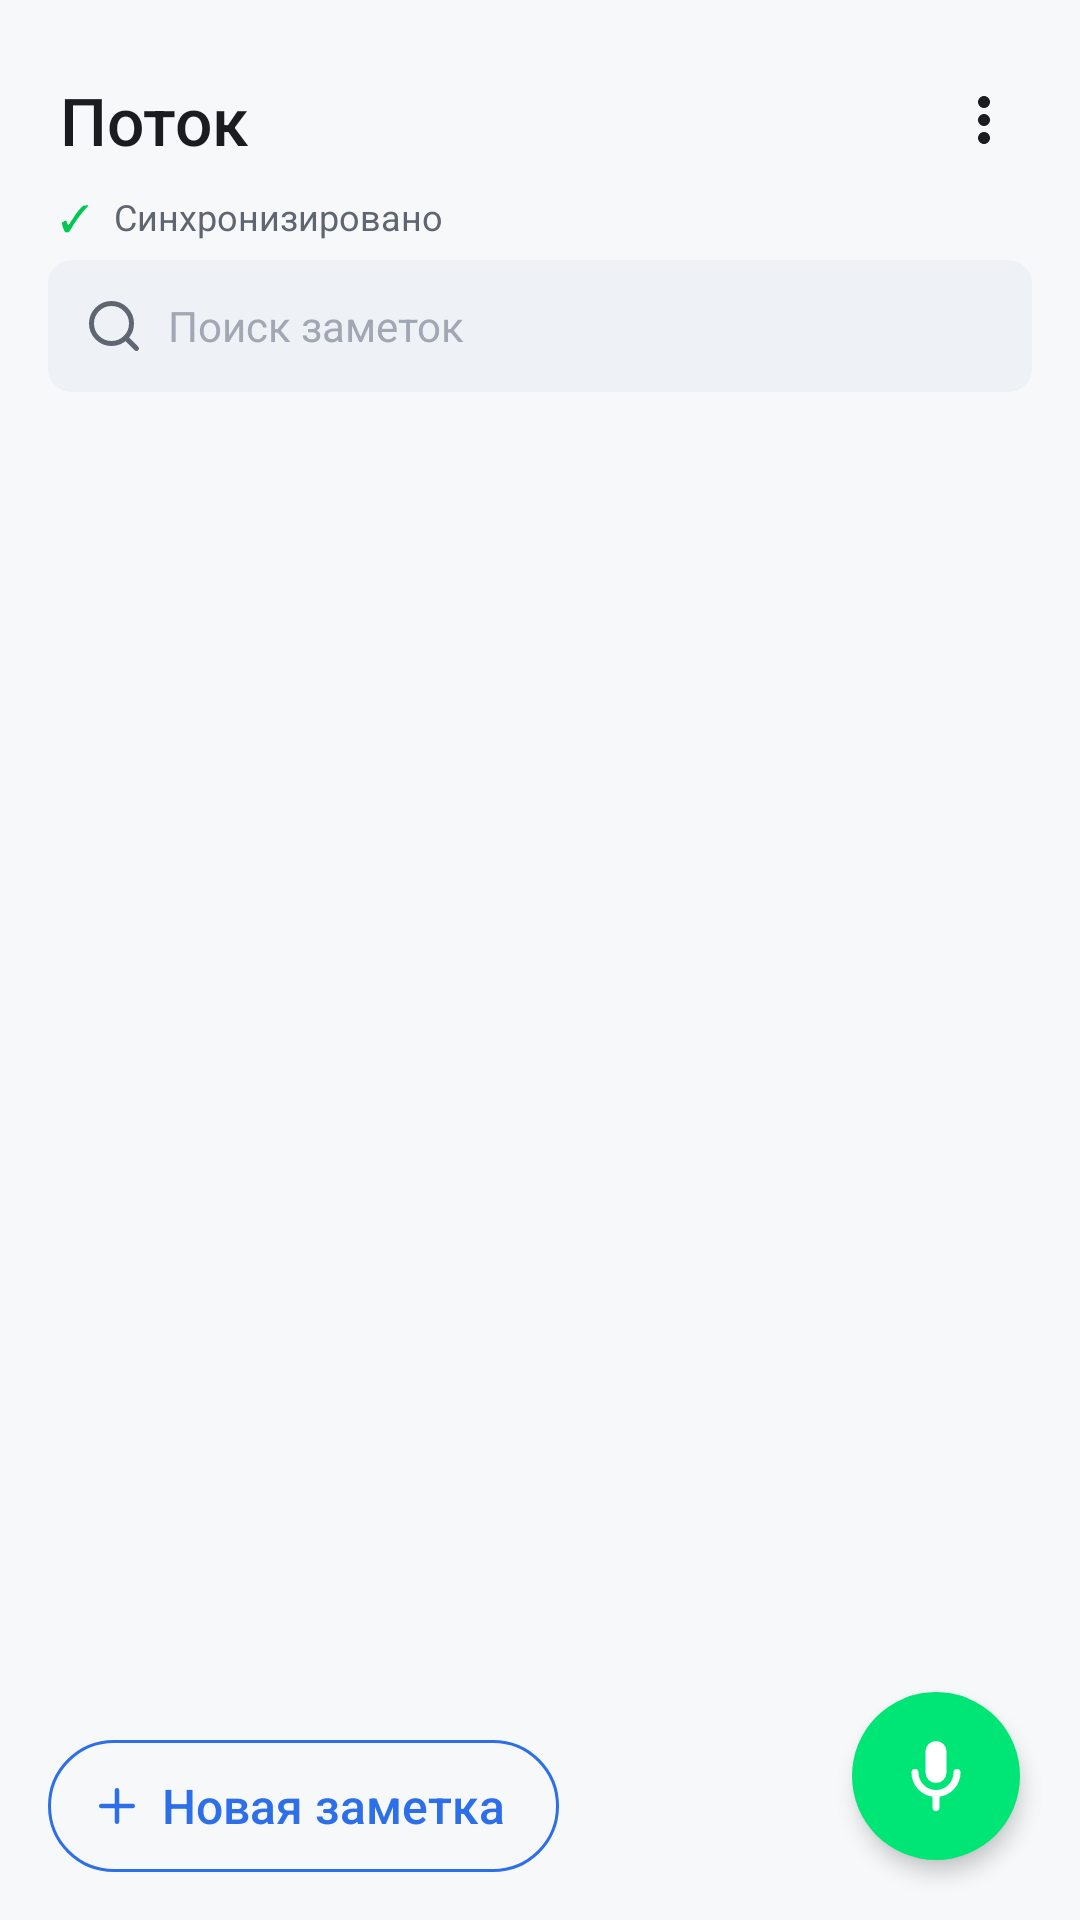

Locate icon controls on the screen. Image size 1080 × 1920, boxes as (x1, y1, x2, y2).
Добавить: (99, 1788, 135, 1824)
Запись: (852, 1692, 1020, 1860)
Меню: (978, 96, 990, 144)
